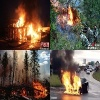fire: (50, 0, 81, 27), (61, 69, 82, 96), (16, 17, 41, 39), (32, 79, 48, 98), (20, 88, 27, 97), (0, 89, 6, 95), (11, 89, 16, 95)
